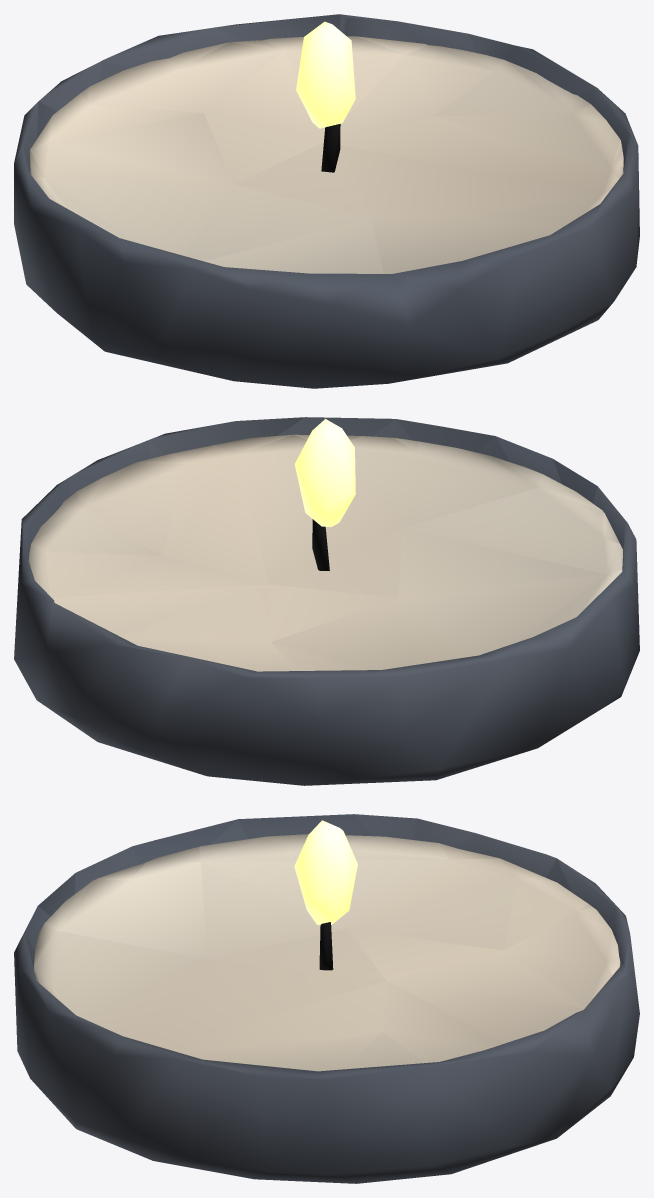
Rendered from frost_tealight_lod2.glb.
3 renders of one model, top to bottom at view 1: azimuth 30°, elevation 25°; view 2: azimuth 150°, elevation 25°; view 3: azimuth 270°, elevation 25°, orthographic.
Visible parts, largest first — view 1: frost_tealight.001, flame.001; view 2: frost_tealight.001, flame.001; view 3: frost_tealight.001, flame.001.
Boxes of the visible parts, left/top/right/bottom form: frost_tealight.001: left=14, top=14, right=639, bottom=388; flame.001: left=296, top=21, right=355, bottom=128; frost_tealight.001: left=14, top=417, right=639, bottom=785; flame.001: left=294, top=419, right=355, bottom=527; frost_tealight.001: left=14, top=814, right=639, bottom=1183; flame.001: left=294, top=820, right=357, bottom=925.
Bounding box in the file's own units: 12.38 × 5.37 × 12.52.
